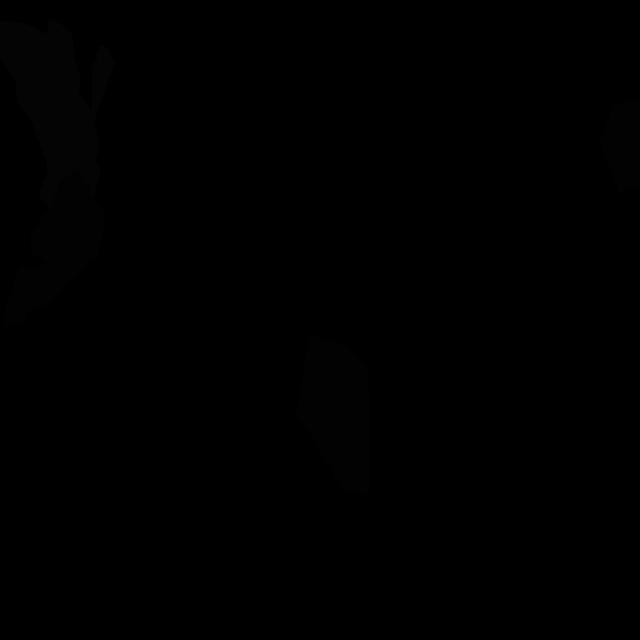cardboard: (4, 167, 104, 328), (296, 335, 370, 495), (600, 99, 640, 193)
soft_plastic: (0, 20, 100, 208), (91, 45, 114, 122)
